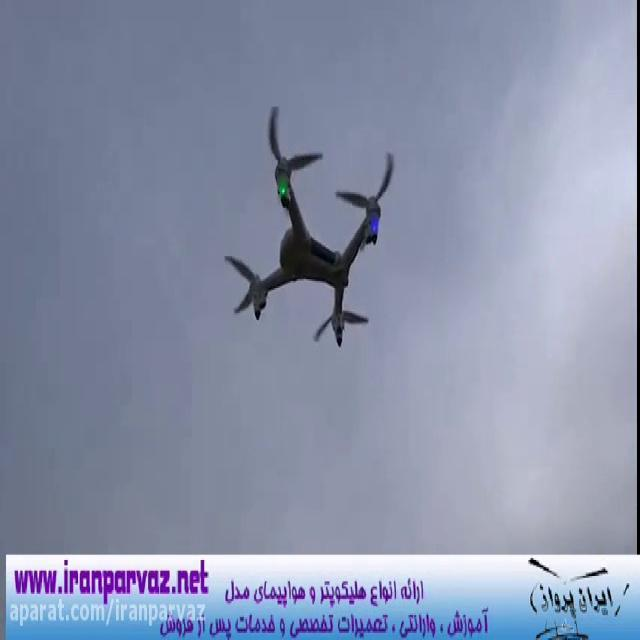drone: (220, 100, 399, 350)
